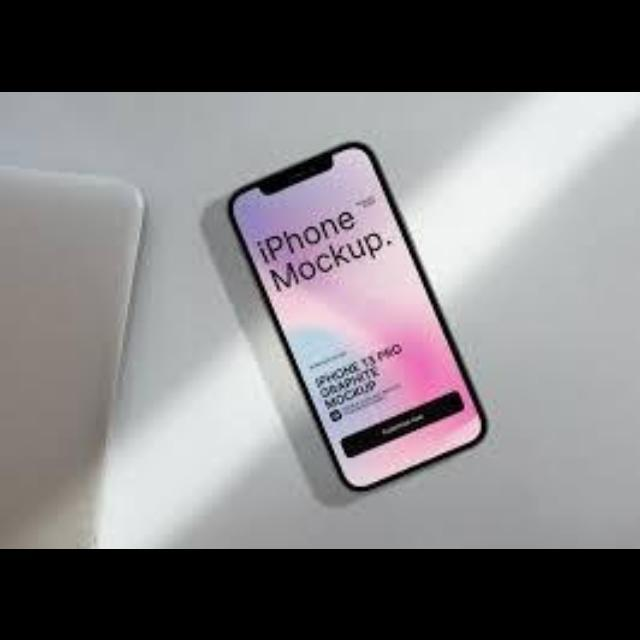phone: (231, 137, 487, 494)
